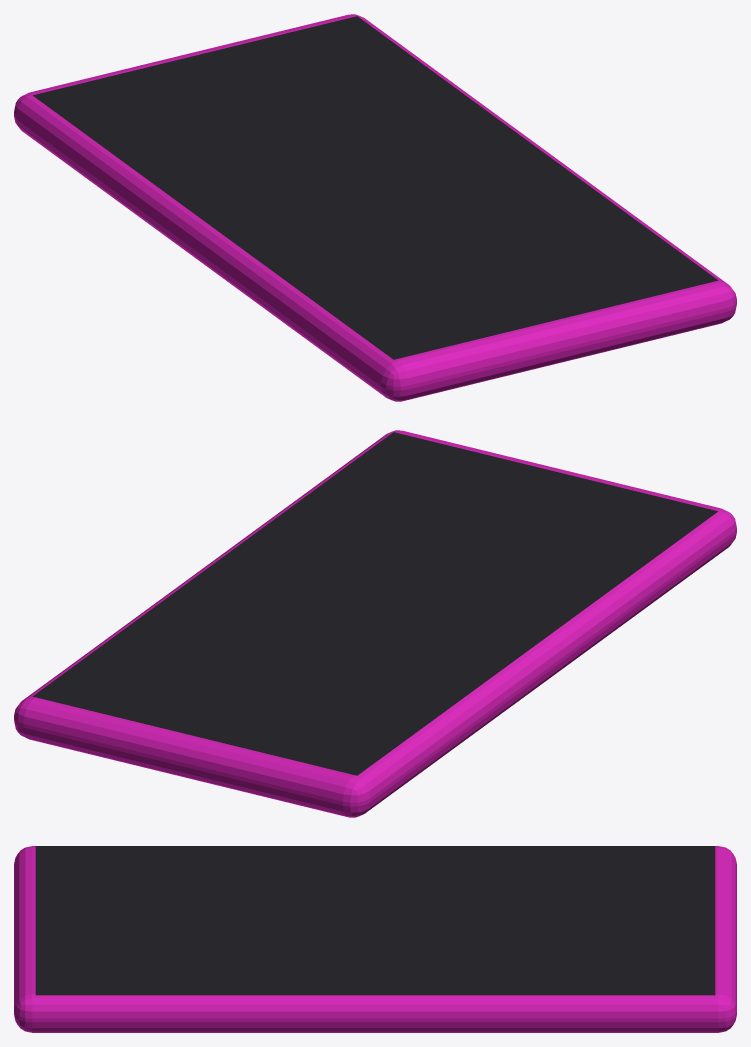
File: Phone_624.glb
The picture shows the model from 3 angles, top to bottom: view 1: azimuth 30°, elevation 25°; view 2: azimuth 150°, elevation 25°; view 3: azimuth 270°, elevation 25°; orthographic projection. The views are drawn at different scales.
Parts seen in each view (by area): view 1: Phone_Screen, Phone_Body; view 2: Phone_Screen, Phone_Body; view 3: Phone_Screen, Phone_Body.
Part boxes in pixels (x1,y1,x2,y2): Phone_Screen: [33, 16, 718, 359]; Phone_Body: [14, 14, 736, 401]; Phone_Screen: [32, 432, 717, 775]; Phone_Body: [14, 430, 736, 817]; Phone_Screen: [35, 846, 715, 995]; Phone_Body: [14, 846, 736, 1032].
Size of the model in its own units: 0.0775 by 0.0083 by 0.1461.
